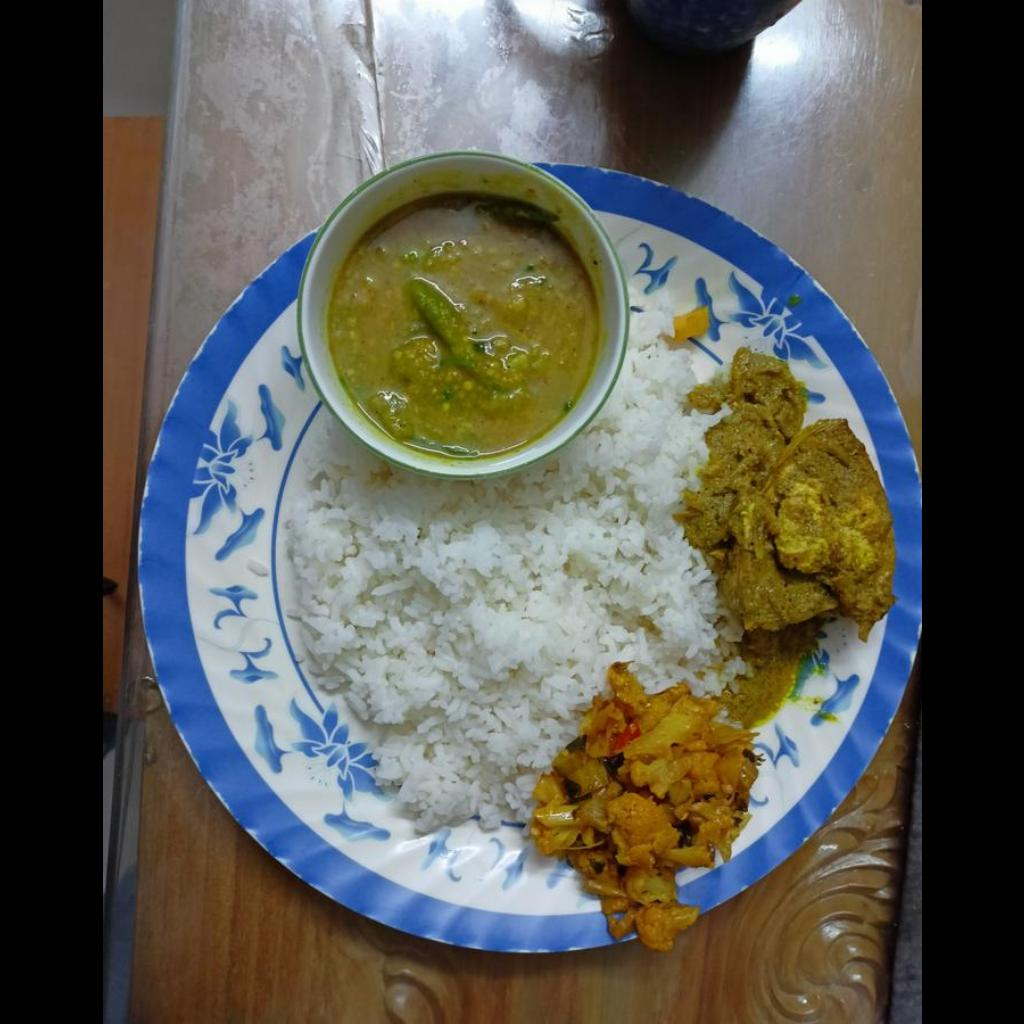beef: (703, 417, 895, 629)
daal: (327, 188, 593, 455)
rice: (289, 351, 720, 826)
vaji: (532, 664, 765, 937)
